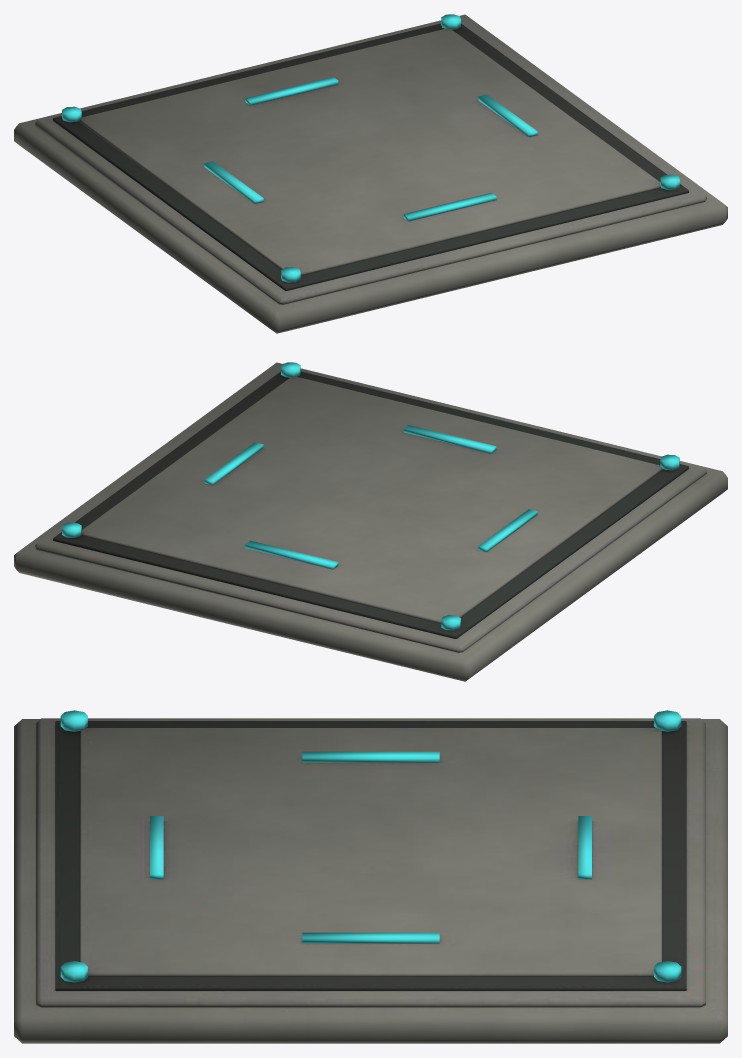
The model's file is wall_ledge_cap.glb.
The picture shows the model from 3 angles, top to bottom: view 1: azimuth 30°, elevation 25°; view 2: azimuth 150°, elevation 25°; view 3: azimuth 270°, elevation 25°; orthographic projection. The views are drawn at different scales.
Parts seen in each view (by area): view 1: wall_ledge_cap.001; view 2: wall_ledge_cap.001; view 3: wall_ledge_cap.001.
Boxes of the visible parts, bbox=[...] form: wall_ledge_cap.001: bbox=[14, 14, 727, 333]; wall_ledge_cap.001: bbox=[14, 362, 727, 681]; wall_ledge_cap.001: bbox=[14, 710, 727, 1043].
Size of the model in its own units: 2.6 by 0.22 by 2.6.
Materials: 1 (1 with a texture image).
